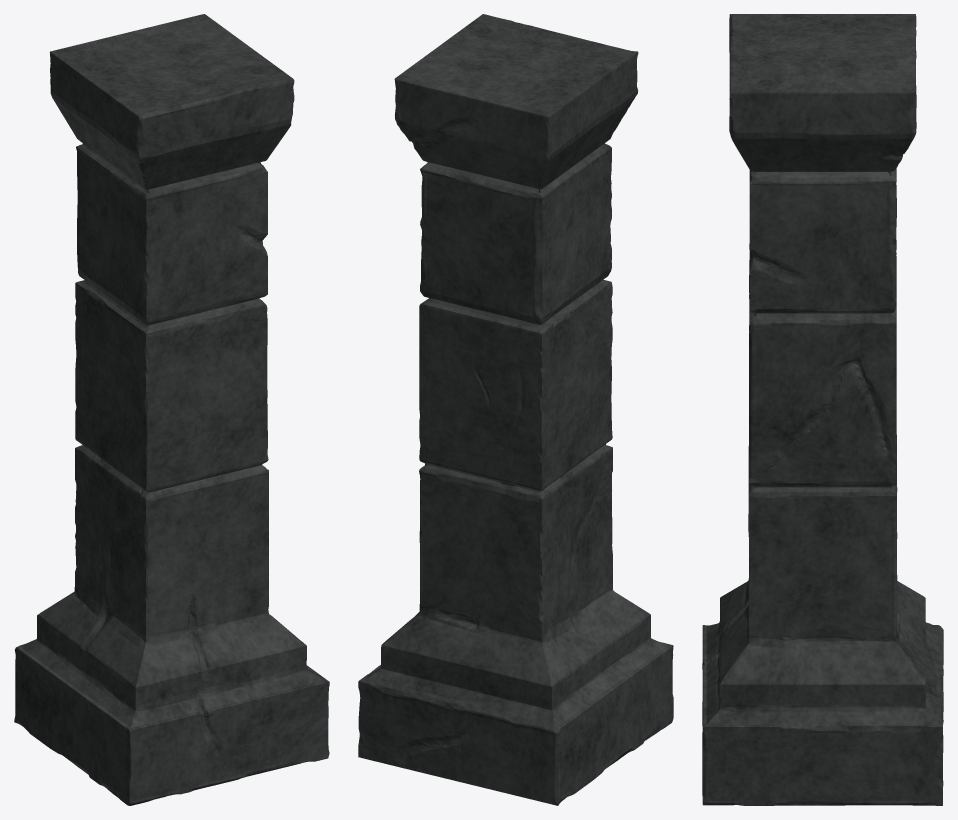
File: Column_LP.fbx
3 renders of one model, left to right at view 1: azimuth 30°, elevation 25°; view 2: azimuth 150°, elevation 25°; view 3: azimuth 270°, elevation 25°, orthographic. The views are drawn at different scales.
Parts seen in each view (by area): view 1: column_lp; view 2: column_lp; view 3: column_lp.
Part boxes in pixels (bbox=[...]): column_lp: bbox=[14, 14, 329, 805]; column_lp: bbox=[358, 14, 673, 805]; column_lp: bbox=[702, 14, 943, 805].
Bounding box in the file's own units: 151 × 484 × 151.
1 material, 1 textured.
